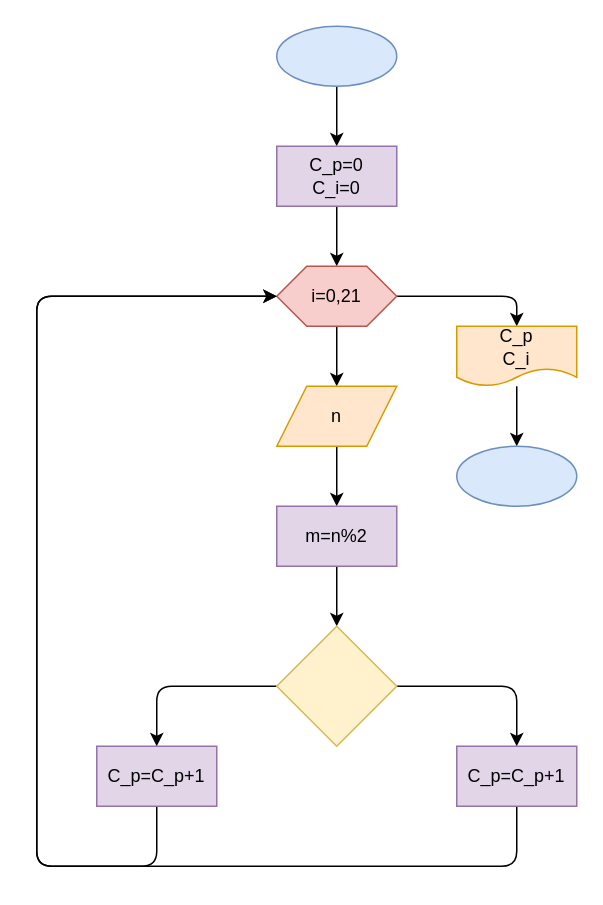
Some shapes in this 603 by 905 pixel diagram are drawn without their labels. The centre of each missing label's shape, as x and y in pixels:
"FIN" belongs at point 516,475.
"INICIO" belongs at point 336,55.
"m==0" belongs at point 336,685.
